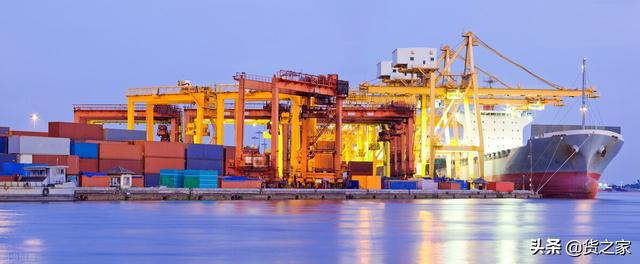Cargoship: (455, 116, 628, 198)
